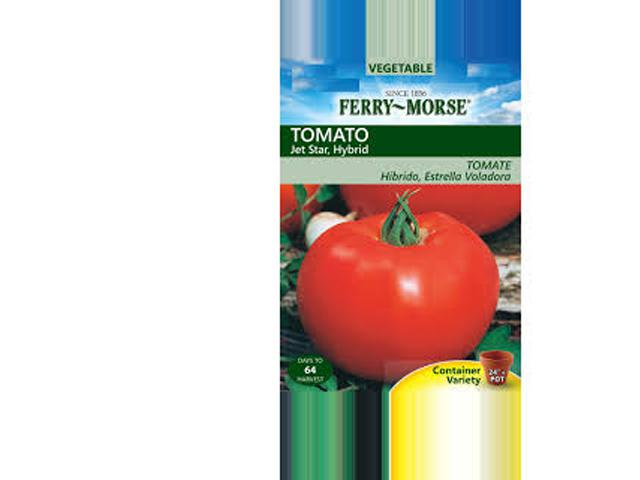tomato: (296, 212, 497, 381)
